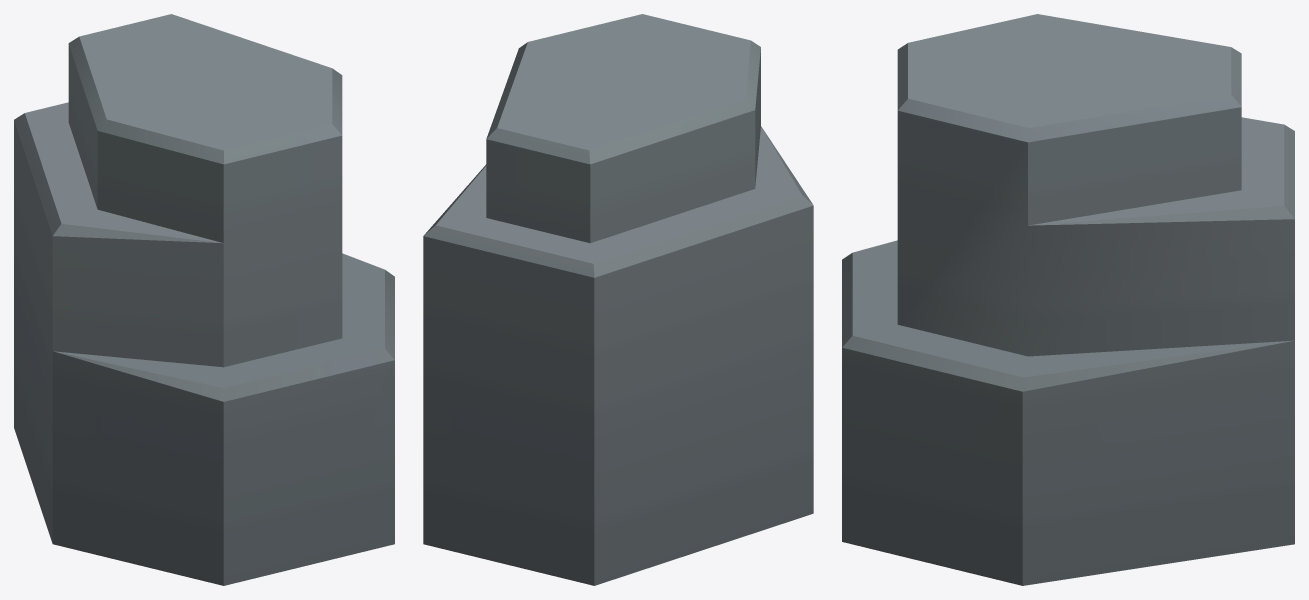
File: Rock_1_E.glb
3 renders of one model, left to right at view 1: azimuth 30°, elevation 25°; view 2: azimuth 150°, elevation 25°; view 3: azimuth 270°, elevation 25°, orthographic. The views are drawn at different scales.
Parts seen in each view (by area): view 1: Rock_1_E_Color1; view 2: Rock_1_E_Color1; view 3: Rock_1_E_Color1.
Part boxes in pixels (<box>): Rock_1_E_Color1: <box>14,14,394,585</box>; Rock_1_E_Color1: <box>423,14,813,585</box>; Rock_1_E_Color1: <box>842,14,1294,585</box>.
Bounding box in the file's own units: 1 × 1.13 × 1.09.
1 material, 1 textured.
